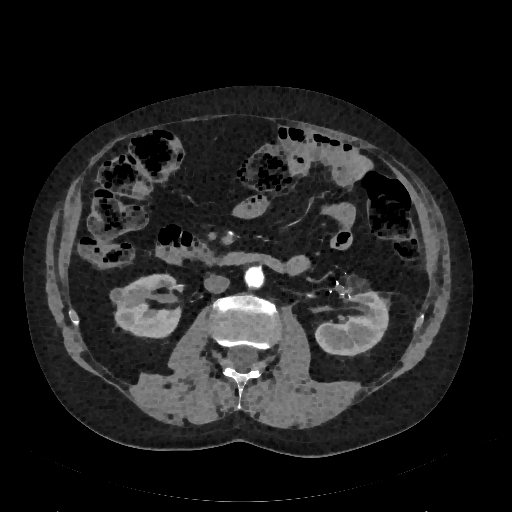Lesion: (107, 286, 126, 305)
